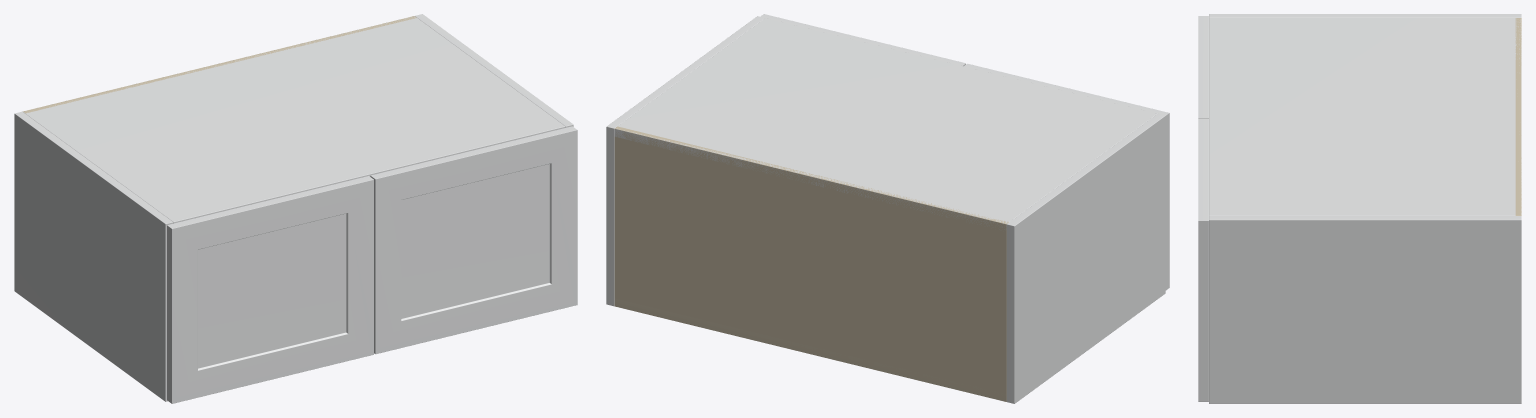
File: PLY-WSS-W361524.glb
3 views of the same model, side by side, from view 1: azimuth 30°, elevation 25°; view 2: azimuth 150°, elevation 25°; view 3: azimuth 270°, elevation 25° (orthographic). The views are drawn at different scales.
Visible parts, largest first — view 1: Carcass top, Shaker door, Shaker door.001, Carcass left, Carcass right, Carcass back; view 2: Carcass back, Carcass top, Carcass left, Carcass right, Carcass bottom, Shaker door, Shaker door.001; view 3: Carcass top, Carcass right, Shaker door.001, Carcass back, Carcass left, Shaker door.
Boxes of the visible parts, bbox=[...] form: Carcass top: bbox=[23, 16, 565, 223]; Shaker door: bbox=[167, 176, 373, 403]; Shaker door.001: bbox=[370, 126, 577, 354]; Carcass left: bbox=[14, 111, 173, 401]; Carcass right: bbox=[415, 14, 573, 127]; Carcass back: bbox=[23, 16, 416, 113]; Carcass back: bbox=[614, 126, 1008, 401]; Carcass top: bbox=[614, 18, 1157, 229]; Carcass left: bbox=[1006, 114, 1165, 403]; Carcass right: bbox=[606, 16, 764, 306]; Carcass bottom: bbox=[614, 298, 1006, 401]; Shaker door: bbox=[964, 63, 1169, 290]; Shaker door.001: bbox=[760, 14, 965, 66]; Carcass top: bbox=[1209, 18, 1521, 215]; Carcass right: bbox=[1209, 216, 1521, 403]; Shaker door.001: bbox=[1198, 118, 1208, 401]; Carcass back: bbox=[1515, 18, 1521, 215]; Carcass left: bbox=[1209, 14, 1521, 17]; Shaker door: bbox=[1198, 16, 1208, 118].
Size of the model in its own units: 0.9144 by 0.381 by 0.6064.
